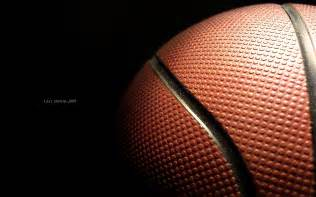basketball: (121, 1, 316, 194)
